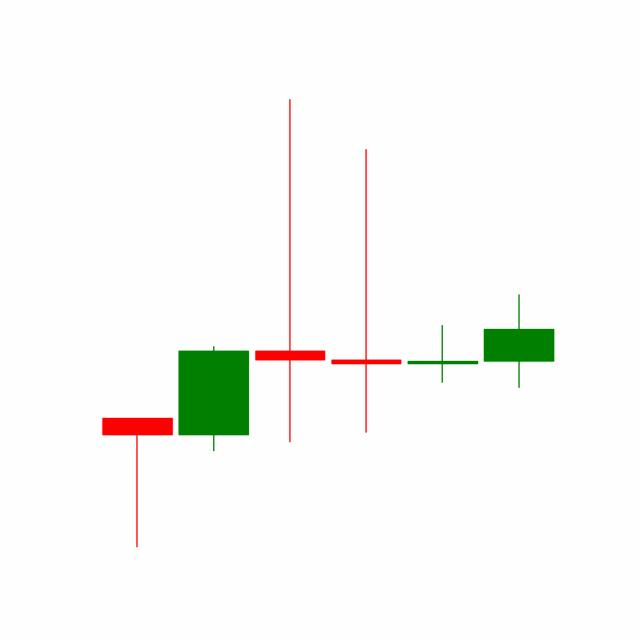Spinning Top: (403, 324, 481, 384)
